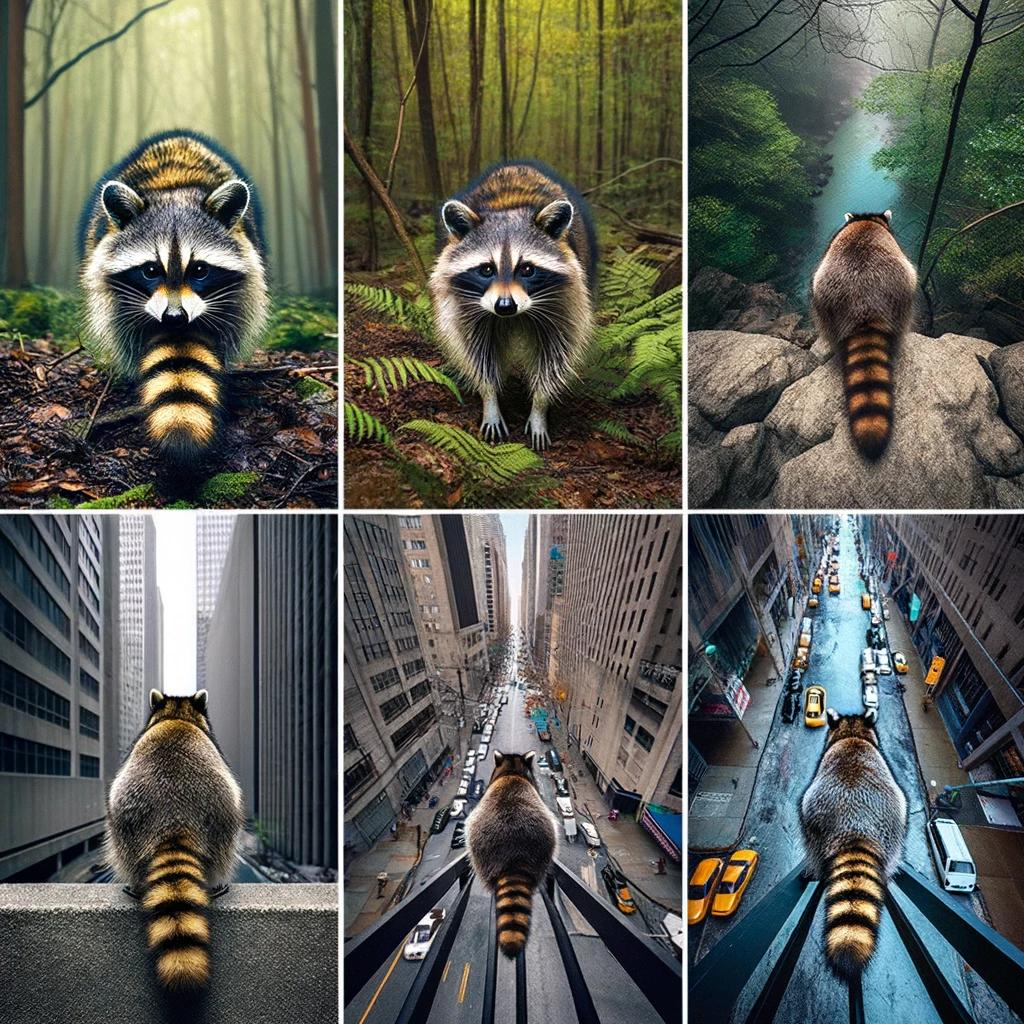raccoon: (65, 113, 287, 470), (408, 147, 615, 438), (95, 677, 260, 1024), (787, 695, 920, 993), (797, 198, 933, 472), (450, 737, 573, 972)
